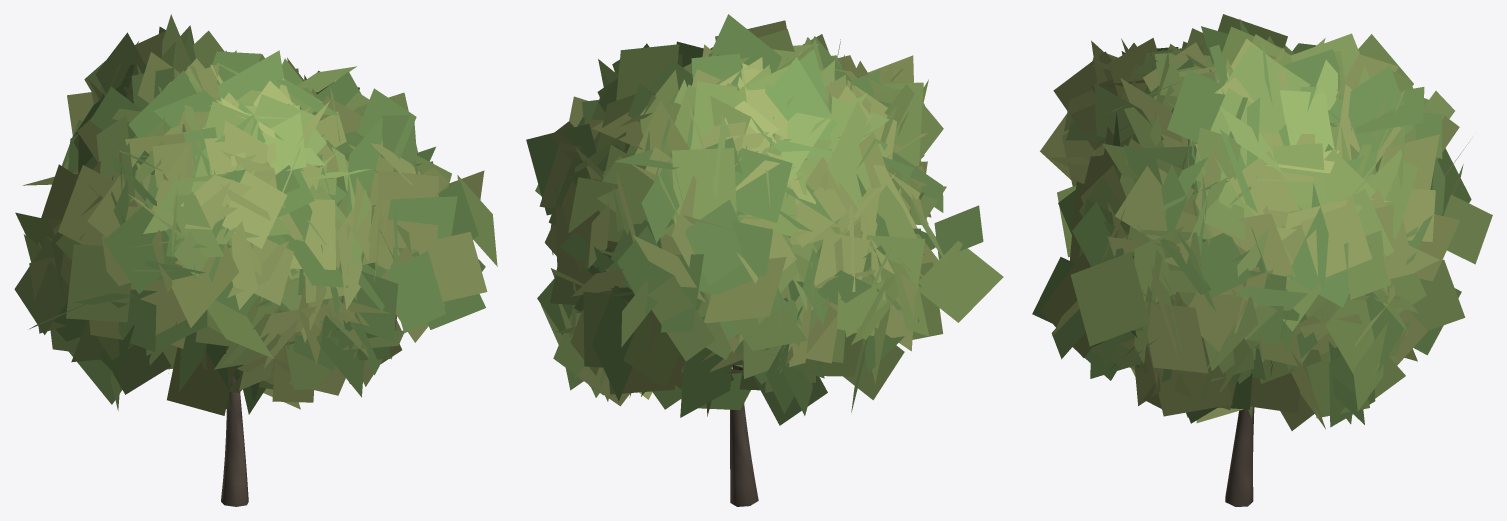
Rendered from maple_1.glb.
3 views of the same model, side by side, from view 1: azimuth 30°, elevation 25°; view 2: azimuth 150°, elevation 25°; view 3: azimuth 270°, elevation 25° (orthographic). The views are drawn at different scales.
Visible parts, largest first — view 1: maple_1; view 2: maple_1; view 3: maple_1.
Part boxes in pixels (<box>): maple_1: <box>14,14,497,506</box>; maple_1: <box>526,14,1003,506</box>; maple_1: <box>1032,14,1492,506</box>.
Size of the model in its own units: 1 by 1 by 0.8902.
